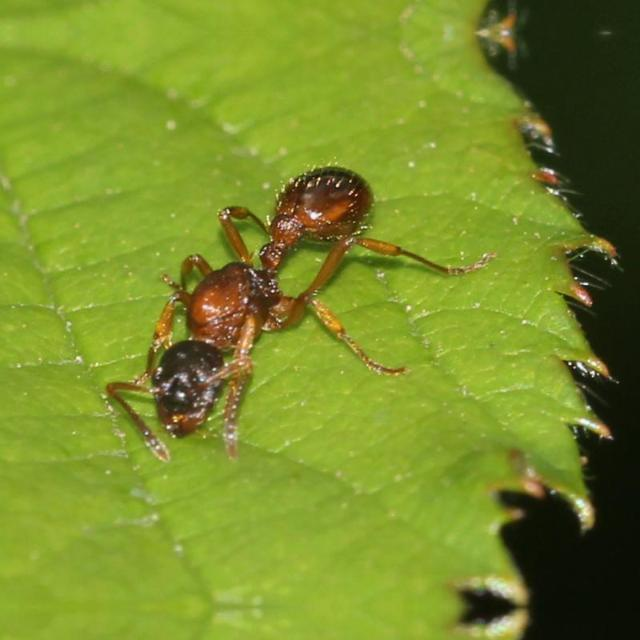Myrmica: (56, 137, 440, 485)
